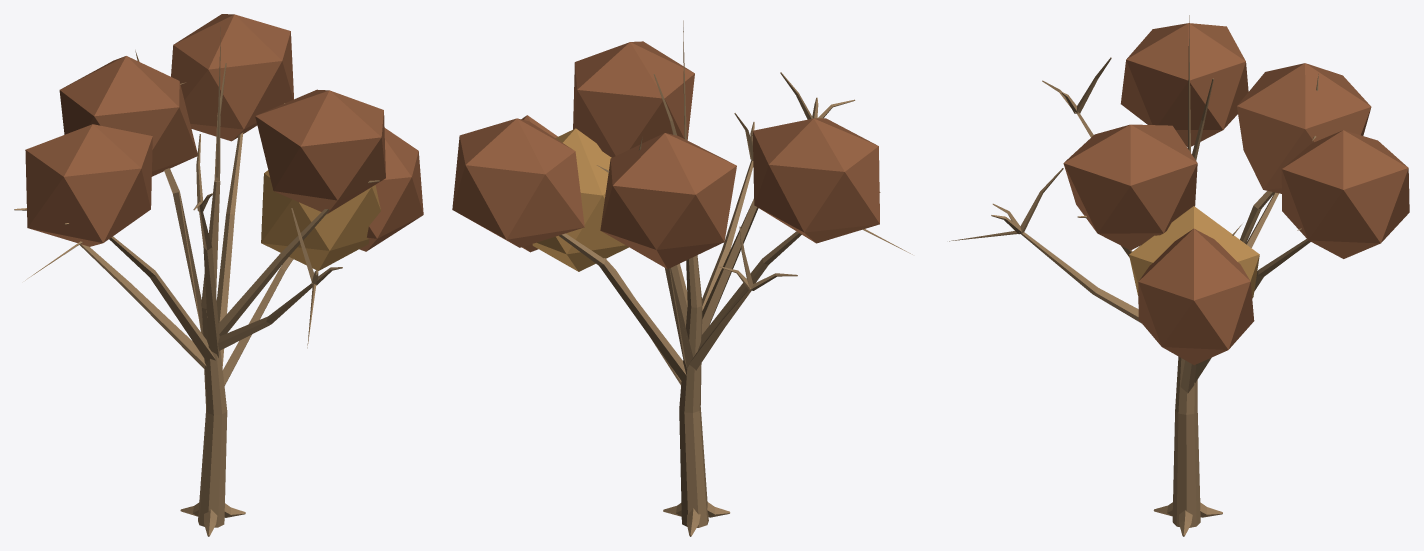
The model's file is oak_autumn_late_01.glb.
3 views of the same model, side by side, from view 1: azimuth 30°, elevation 25°; view 2: azimuth 150°, elevation 25°; view 3: azimuth 270°, elevation 25° (orthographic). The views are drawn at different scales.
Parts seen in each view (by area): view 1: Oak_autumn_late_01; view 2: Oak_autumn_late_01; view 3: Oak_autumn_late_01.
Boxes of the visible parts, <box> form: Oak_autumn_late_01: <box>14,14,423,536</box>; Oak_autumn_late_01: <box>452,20,912,536</box>; Oak_autumn_late_01: <box>949,15,1409,536</box>.
Size of the model in its own units: 13.98 by 16.03 by 13.09.
